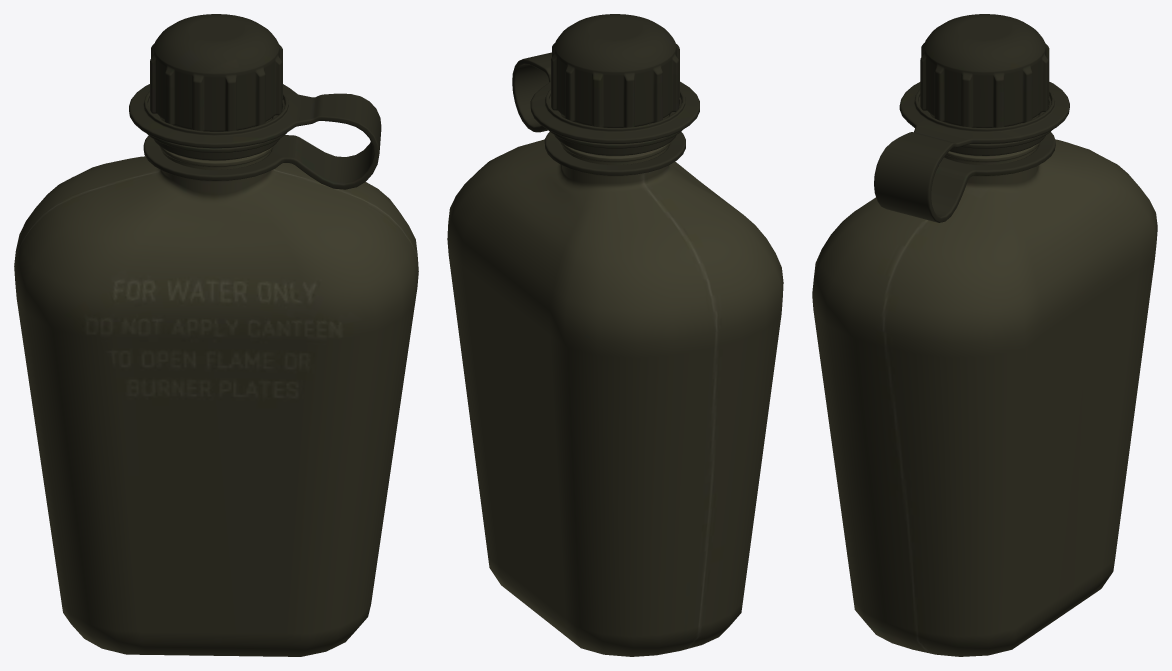
Rendered from flask.glb.
3 views of the same model, side by side, from view 1: azimuth 30°, elevation 25°; view 2: azimuth 150°, elevation 25°; view 3: azimuth 270°, elevation 25° (orthographic). The views are drawn at different scales.
Visible parts, largest first — view 1: flask; view 2: flask; view 3: flask.
Boxes of the visible parts, x1,y1,x2,y2 form: flask: (14,14,418,656); flask: (447,14,783,656); flask: (812,14,1157,656).
Bounding box in the file's own units: 0.1354 × 0.22 × 0.1207.
1 material, 1 textured.
